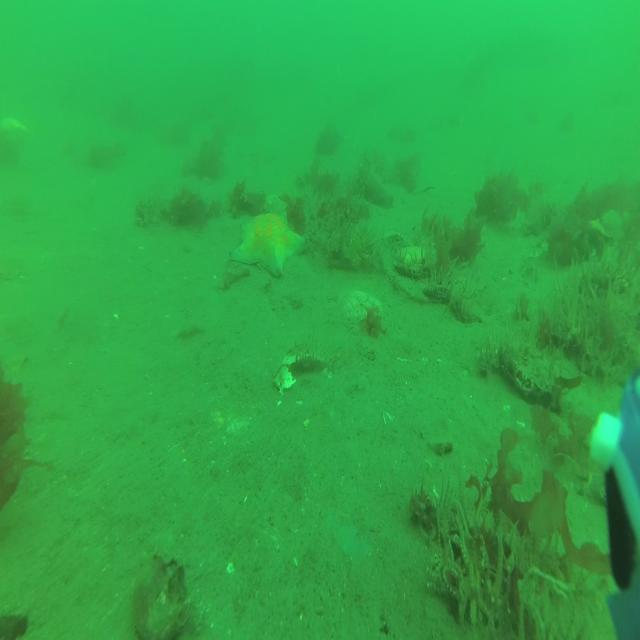starfish: (231, 204, 310, 279)
